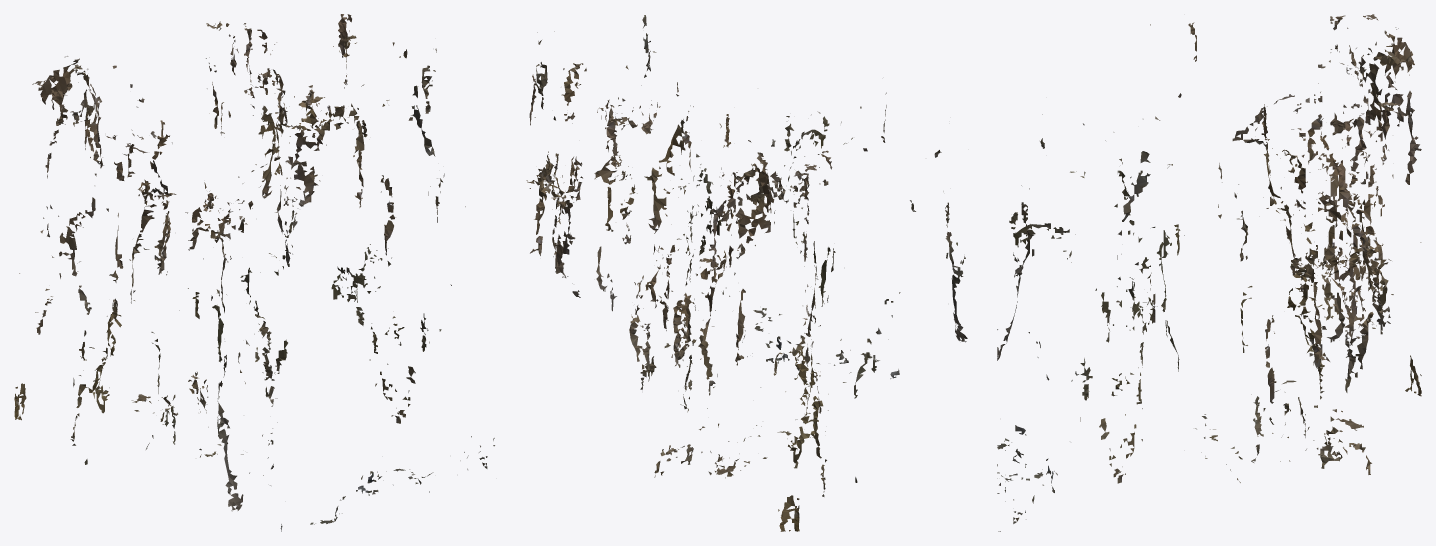
File: coarse.glb
3 views of the same model, side by side, from view 1: azimuth 30°, elevation 25°; view 2: azimuth 150°, elevation 25°; view 3: azimuth 270°, elevation 25° (orthographic). The views are drawn at different scales.
Bounding box in the file's own units: 3.6 × 3.6 × 3.6.
